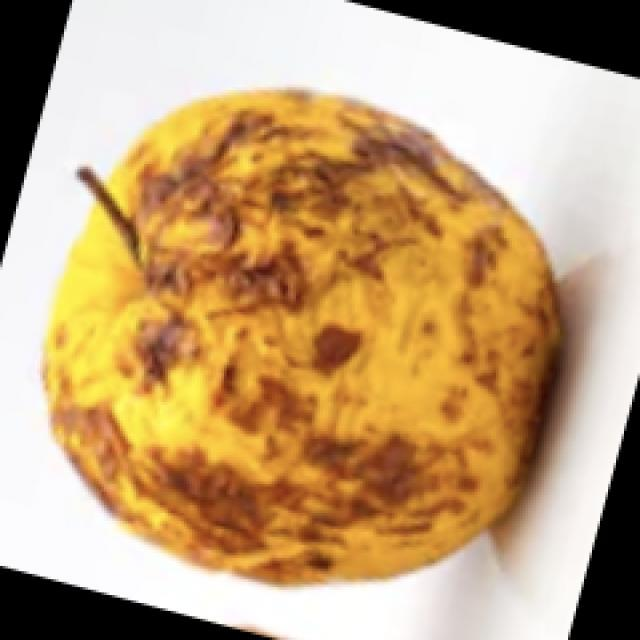Rotten: (65, 103, 545, 600)
